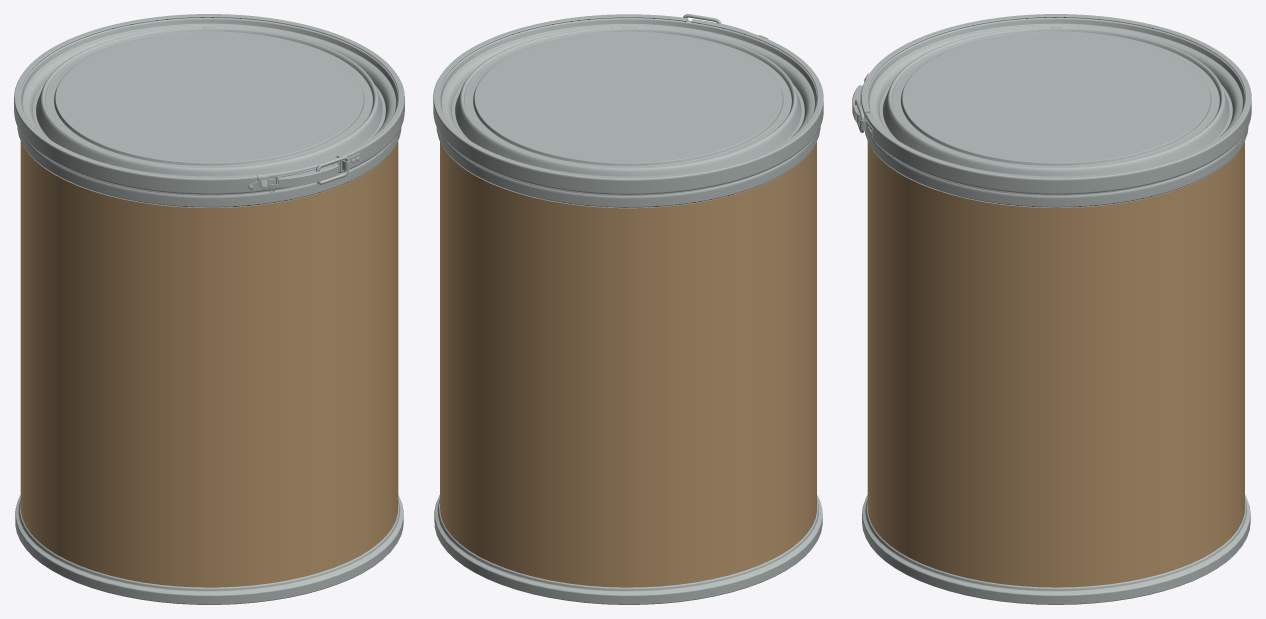
The model's file is drum_fiber_a05.glb.
3 views of the same model, side by side, from view 1: azimuth 30°, elevation 25°; view 2: azimuth 150°, elevation 25°; view 3: azimuth 270°, elevation 25° (orthographic).
Bounding box in the file's own units: 0.41 × 0.4971 × 0.4191.
